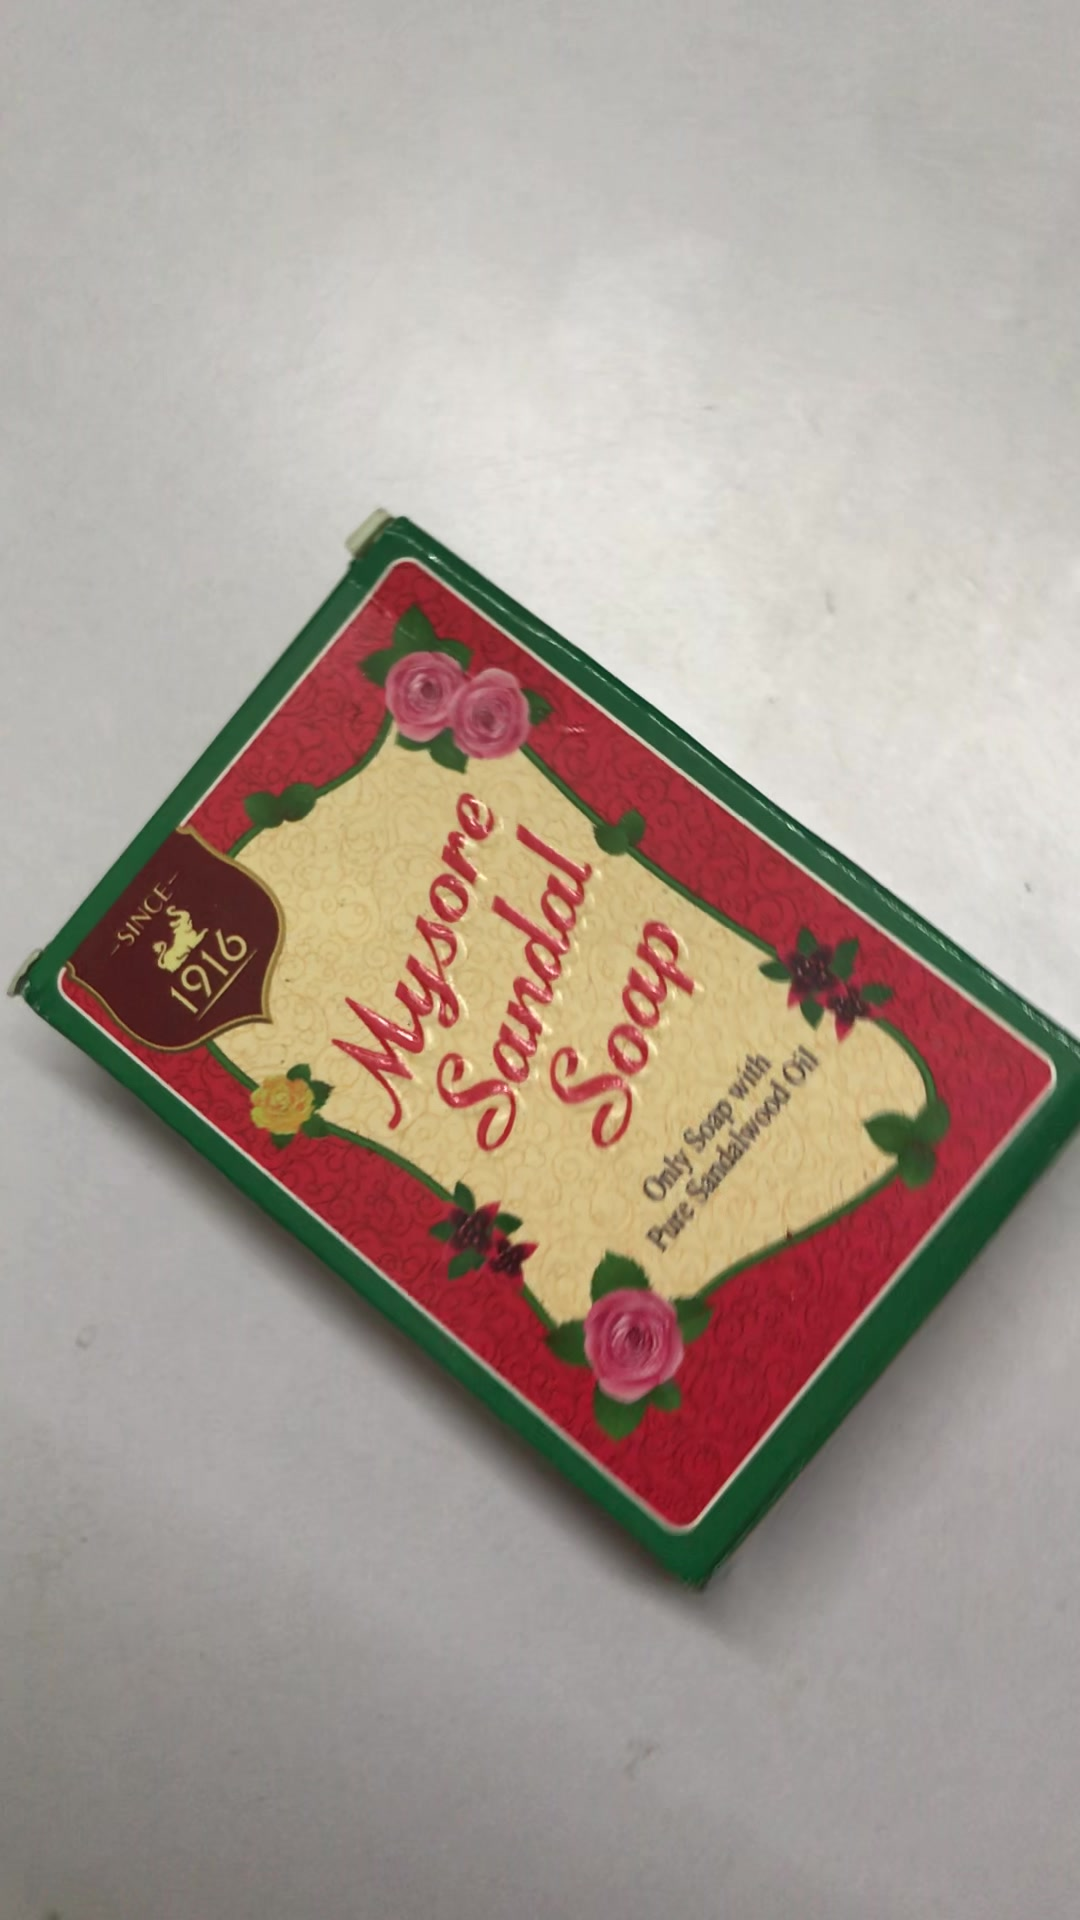mysore sandal soap: (26, 520, 1080, 1588)
